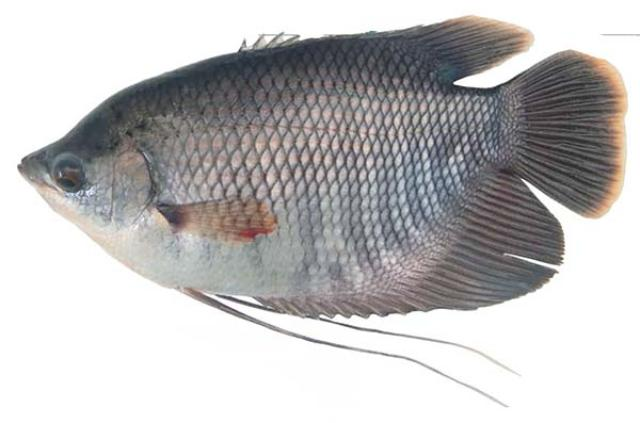Mulut: (0, 132, 56, 206)
Sirip Anal: (252, 168, 574, 336)
Sirip Dada: (142, 179, 308, 267)
Sirip Ekor: (480, 42, 638, 225)
Sirip Punggung: (300, 0, 550, 105)
